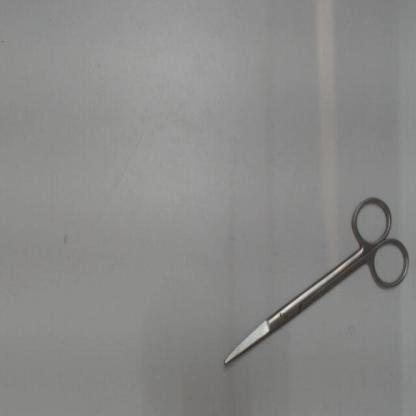Curved Mayo Scissors: (220, 192, 414, 377)
